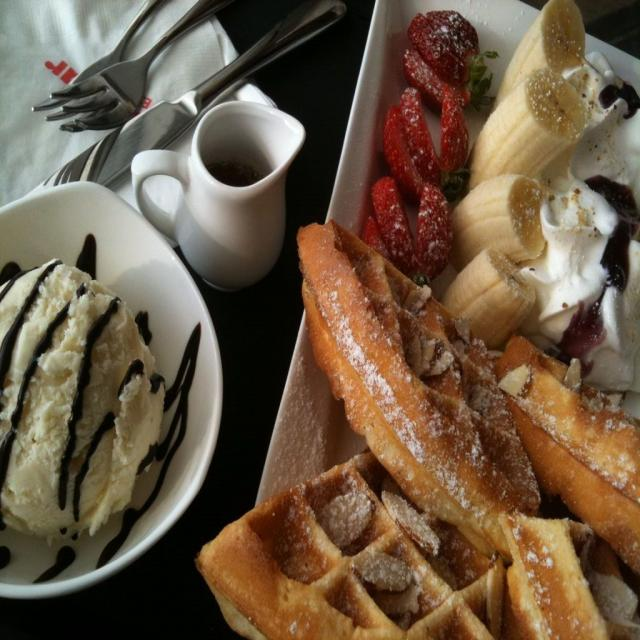Coffee: (208, 162, 262, 186)
